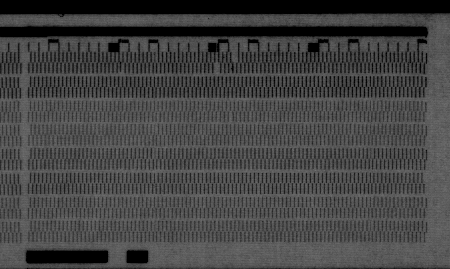Broken hole: (212, 62, 222, 77), (228, 52, 239, 64)
Oblique printing: (115, 62, 127, 75)
